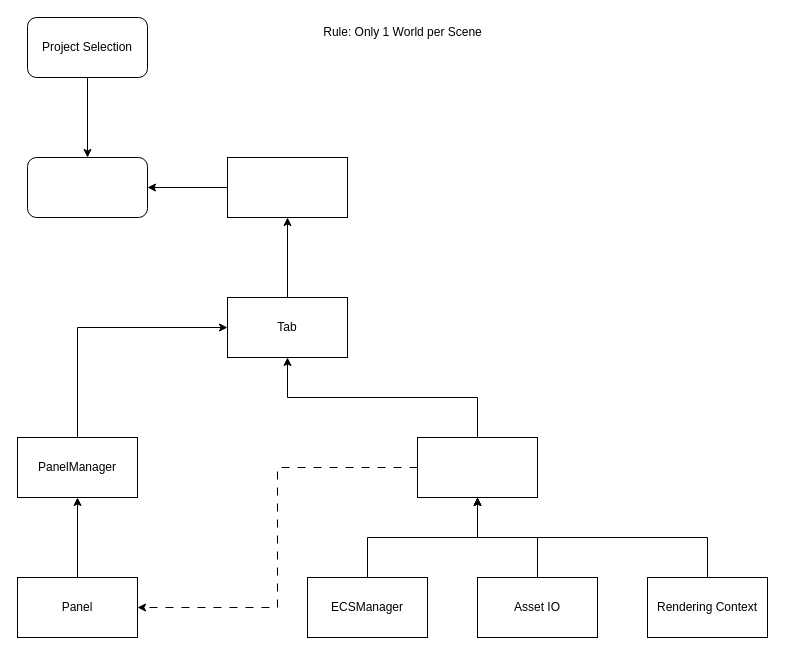
The diagram is 785 pixels wide and 655 high, and some of its shapes have lost their labels. Here are the shapes that lost their labels. From the top down, the centre of each, then its label:
pixel 87 187: Project Editor
pixel 287 187: EditorWindow (tabBrowser)
pixel 477 467: SceneWorld
